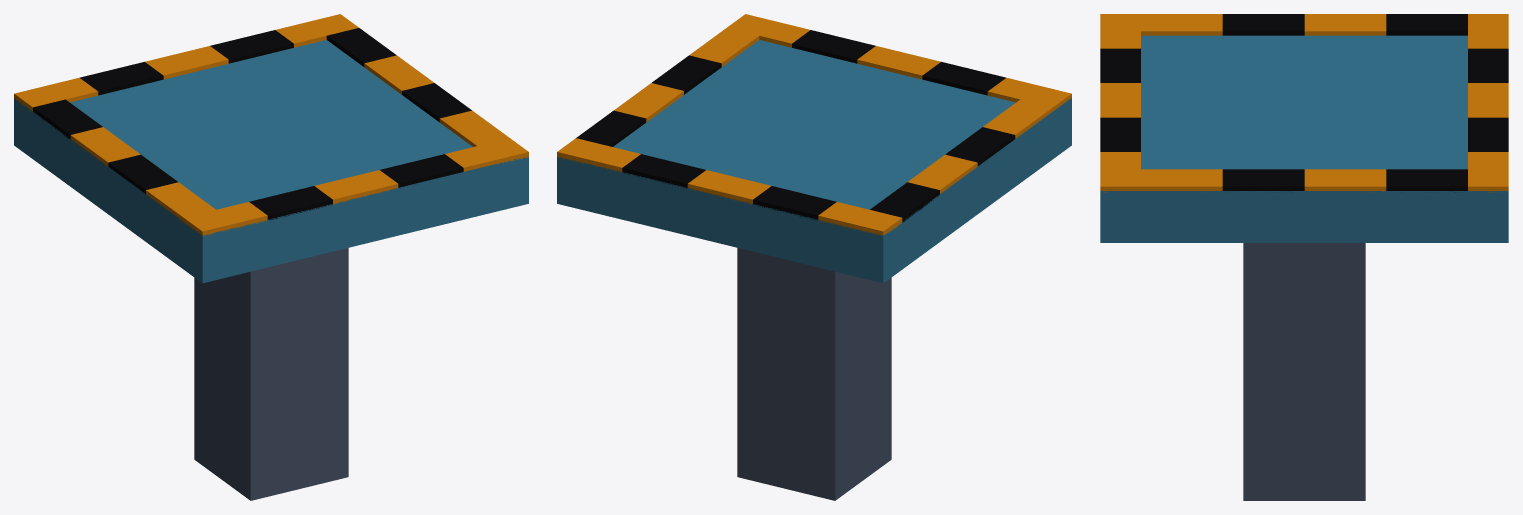
File: SM_Parkour_Pad_High.glb
3 renders of one model, left to right at view 1: azimuth 30°, elevation 25°; view 2: azimuth 150°, elevation 25°; view 3: azimuth 270°, elevation 25°, orthographic. The views are drawn at different scales.
Parts seen in each view (by area): view 1: SM_Parkour_Pad_High-col; view 2: SM_Parkour_Pad_High-col; view 3: SM_Parkour_Pad_High-col.
Part boxes in pixels (x1=…): SM_Parkour_Pad_High-col: x1=14, y1=14, x2=528, y2=500; SM_Parkour_Pad_High-col: x1=557, y1=14, x2=1071, y2=500; SM_Parkour_Pad_High-col: x1=1100, y1=14, x2=1508, y2=500.
Bounding box in the file's own units: 1 × 1.01 × 1.
